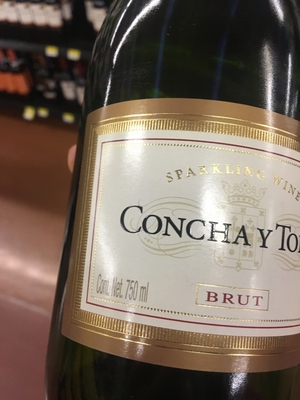brut: (58, 18, 300, 396)
